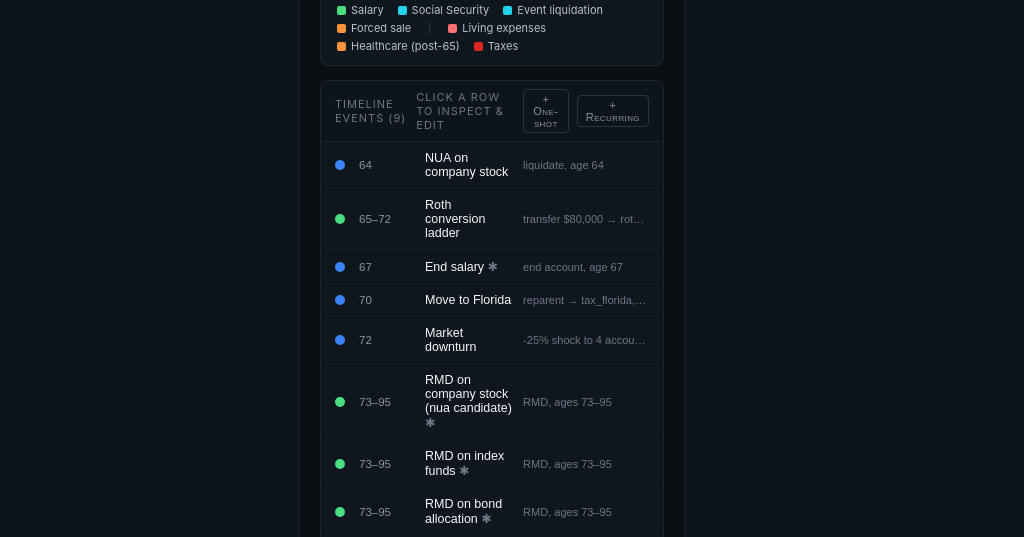
it: UC11 — auto-event derivation from end_age › selecting an auto-event opens a read-only inspector
(page scrolled)
Step 1. Click the text "End salary ✱" → x=462, y=267, box left=425, top=260, right=498, bottom=274
(page scrolled)
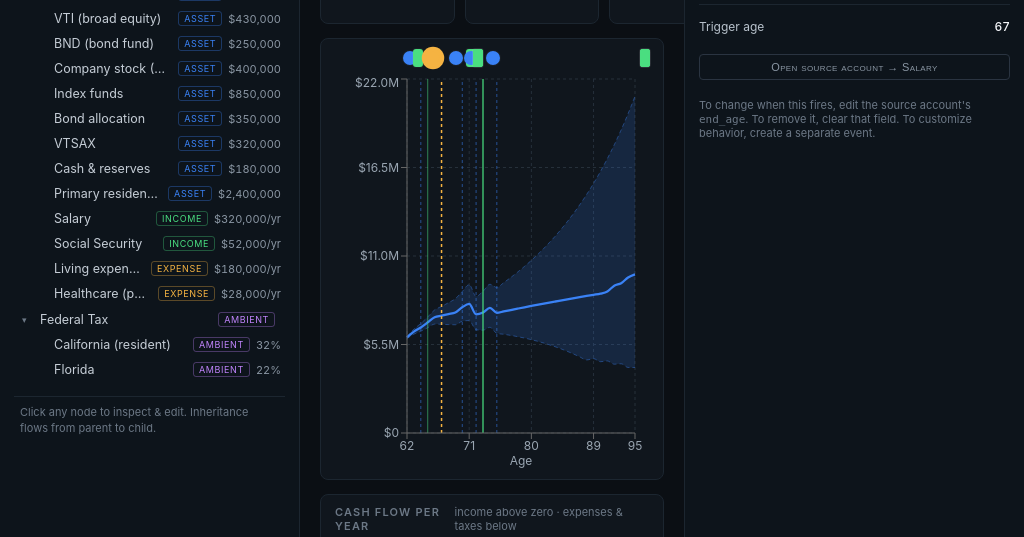
Expected: the button "Open source account → Salary" is shown, left=699, top=54, right=1010, bottom=80
